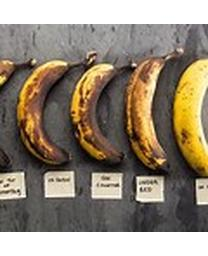banana: (68, 59, 135, 169), (125, 48, 182, 174), (21, 53, 79, 167)
